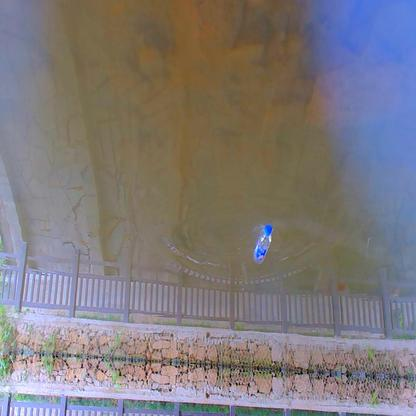plastic bottle: (252, 224, 273, 264)
